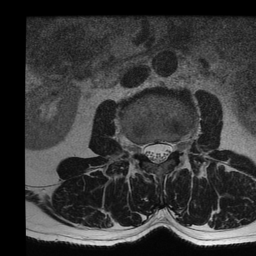CCS_normal: (153, 134, 163, 170)
LFS_normal: (173, 134, 181, 159)
LLS_normal: (163, 134, 173, 163)
RFS_normal: (133, 134, 143, 161)
RLS_normal: (143, 137, 153, 165)
